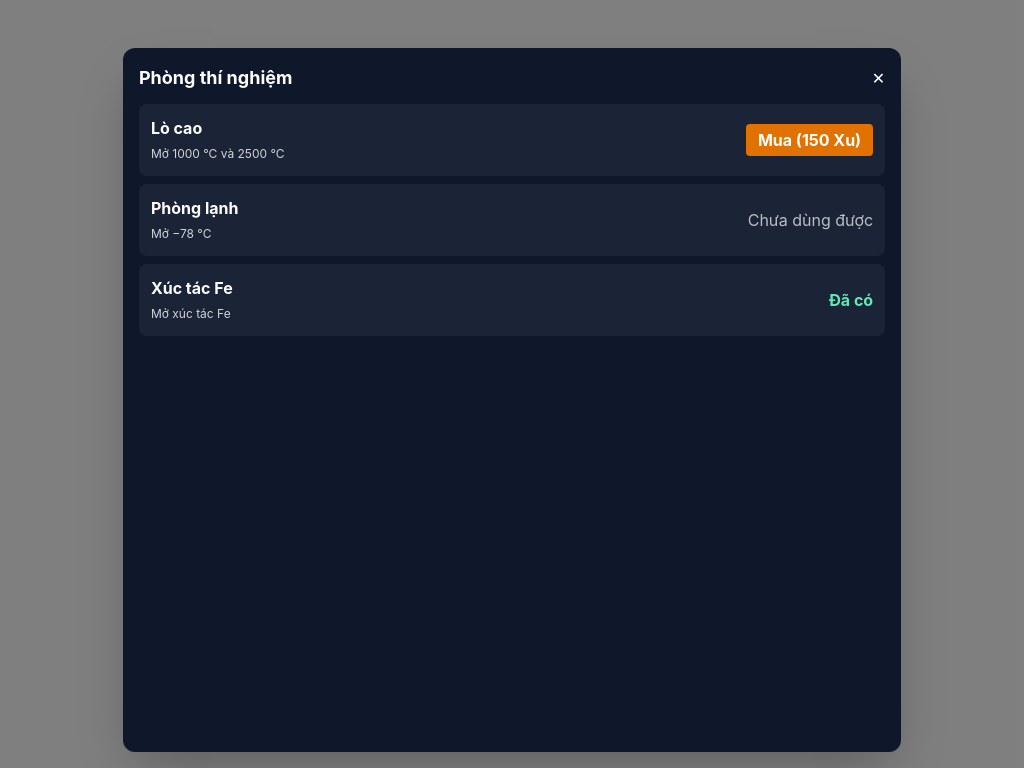
Test: refusal LAB_OWNED shows its text
Step 1. Click the button "Mua (150 Xu)" → (810, 140), box [746, 124, 873, 156]
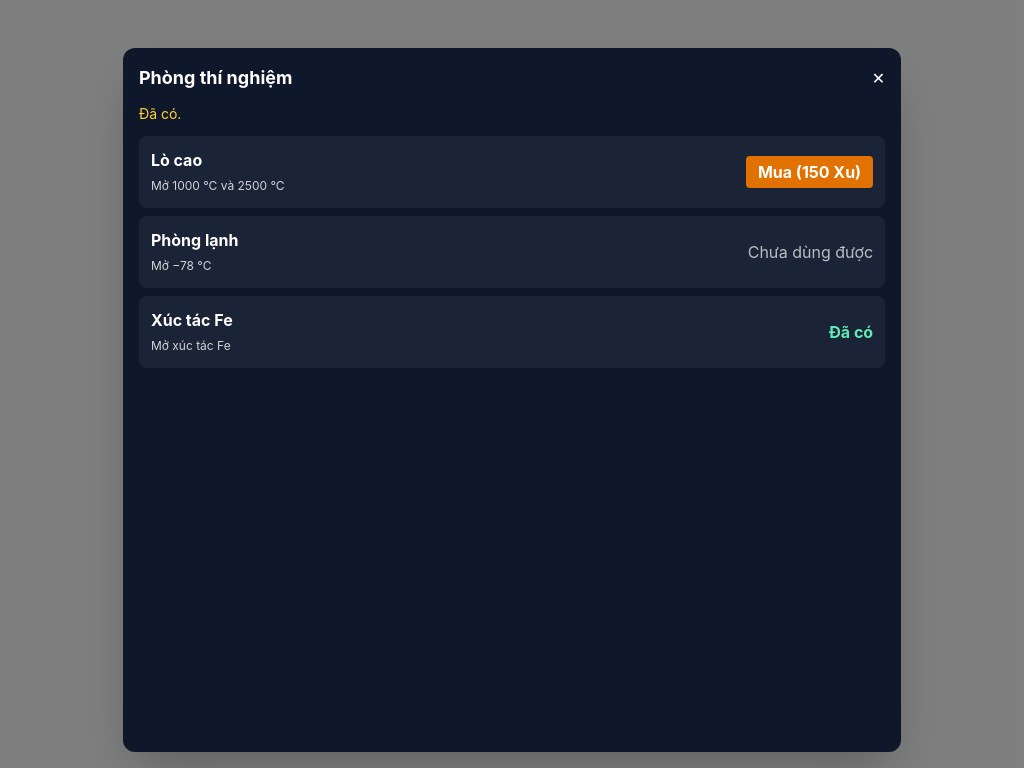
Result: the message reads "Đã có." at [139, 105, 181, 122]
